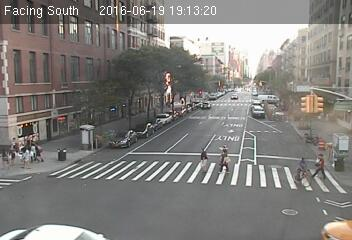neg: (289, 155, 315, 189), (106, 103, 118, 120), (178, 92, 188, 105)
pos: (214, 142, 237, 172), (310, 151, 332, 180), (194, 146, 214, 173), (16, 146, 32, 168)
